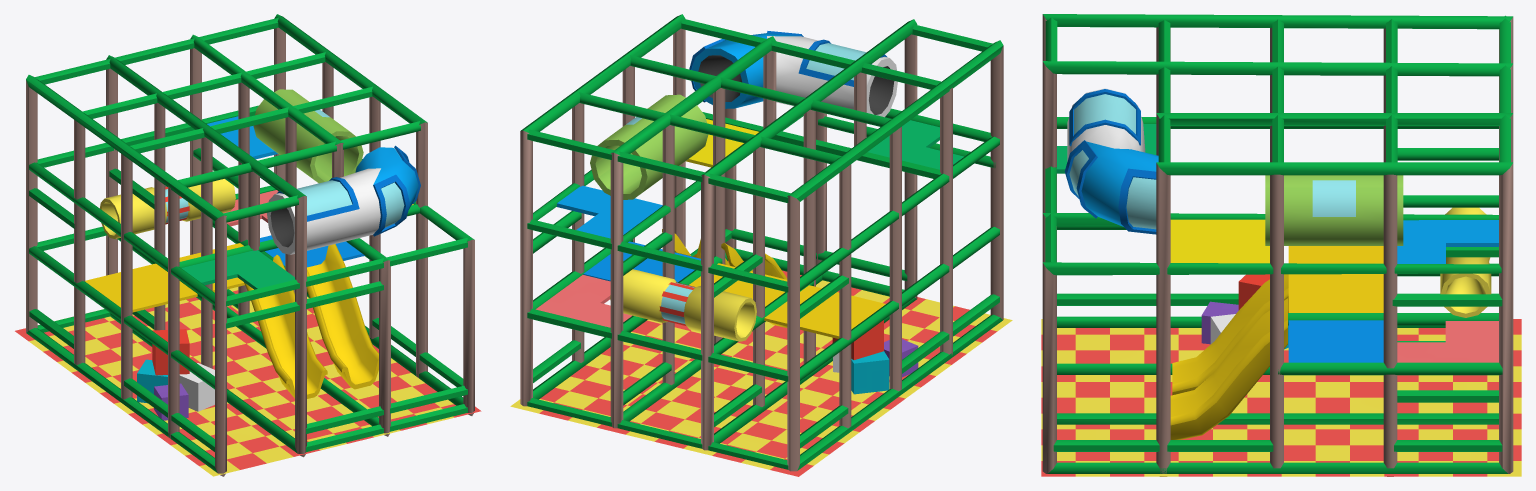
Rendered from for_kids_001.glb.
3 renders of one model, left to right at view 1: azimuth 30°, elevation 25°; view 2: azimuth 150°, elevation 25°; view 3: azimuth 270°, elevation 25°, orthographic. The views are drawn at different scales.
Visible parts, largest first — view 1: for_kids_001; view 2: for_kids_001; view 3: for_kids_001.
Boxes of the visible parts, box(x1,y1,x2,y2) form: for_kids_001: box(15, 14, 481, 476); for_kids_001: box(510, 14, 1012, 476); for_kids_001: box(1041, 14, 1521, 476).
Size of the model in its own units: 3.57 by 3.33 by 4.59.
1 material, 1 textured.
